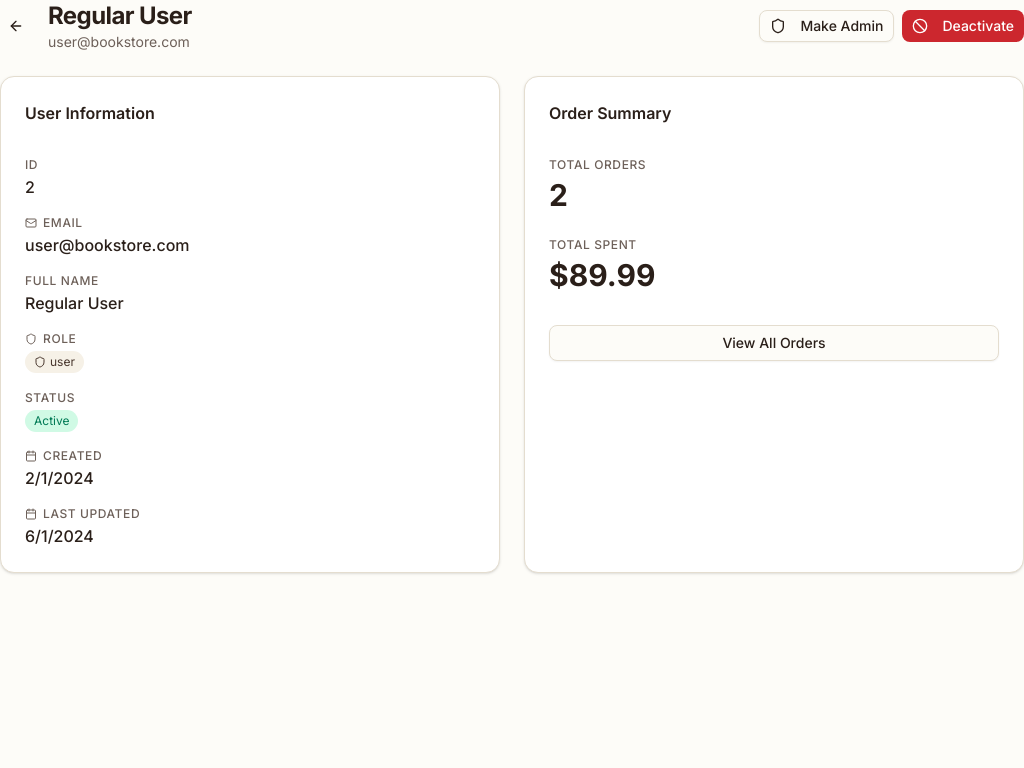
Test: UserDetailPage › should open role update dialog
Click the button "Make Admin".
click(827, 26)  # box [759, 10, 894, 42]
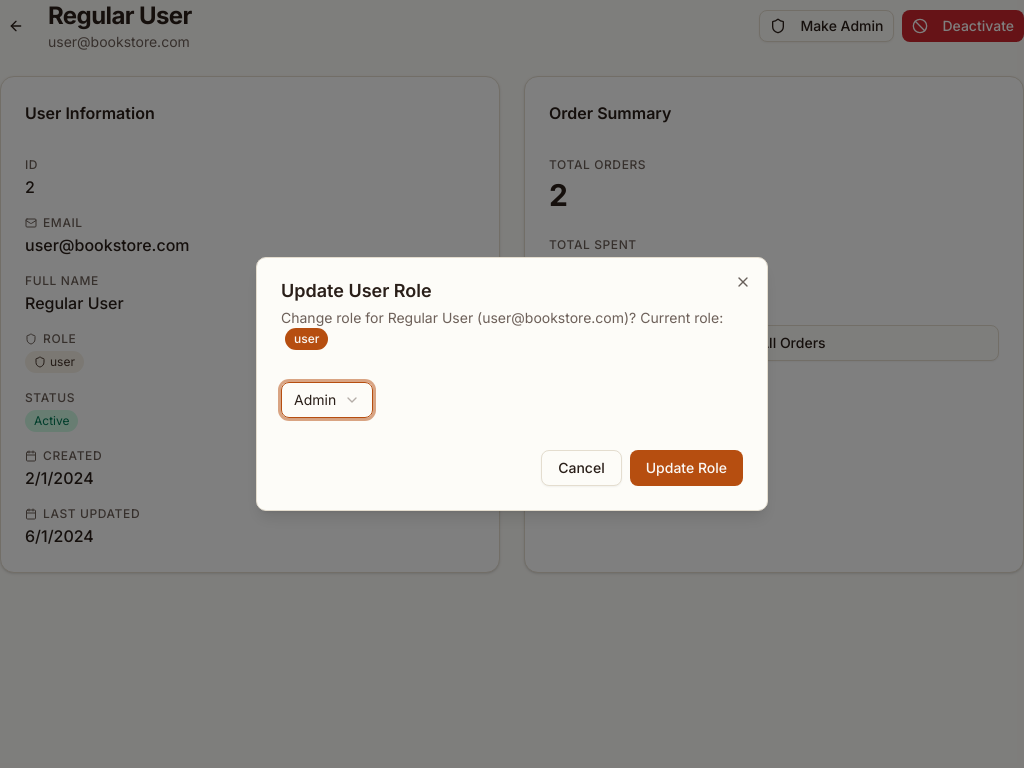
Expected: the heading "Update User Role" is shown, [281, 280, 432, 301]
Expected: the text "Change role for Regular User" is shown, [281, 308, 743, 350]
